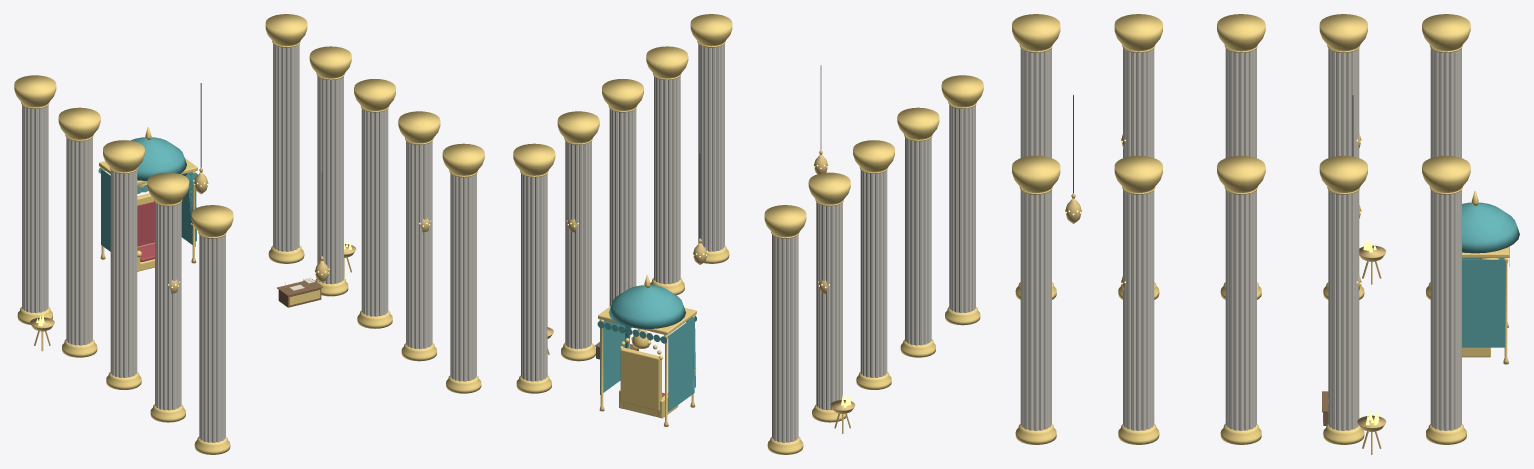
Rendered from palace_hall.glb.
3 renders of one model, left to right at view 1: azimuth 30°, elevation 25°; view 2: azimuth 150°, elevation 25°; view 3: azimuth 270°, elevation 25°, orthographic. The views are drawn at different scales.
Parts seen in each view (by area): view 1: palace_hall; view 2: palace_hall; view 3: palace_hall.
Part boxes in pixels (left/top/right/bottom): palace_hall: left=14, top=14, right=484, bottom=454; palace_hall: left=513, top=14, right=983, bottom=454; palace_hall: left=1012, top=14, right=1519, bottom=454.
Size of the model in its own units: 23.16 by 16.01 by 27.25.
